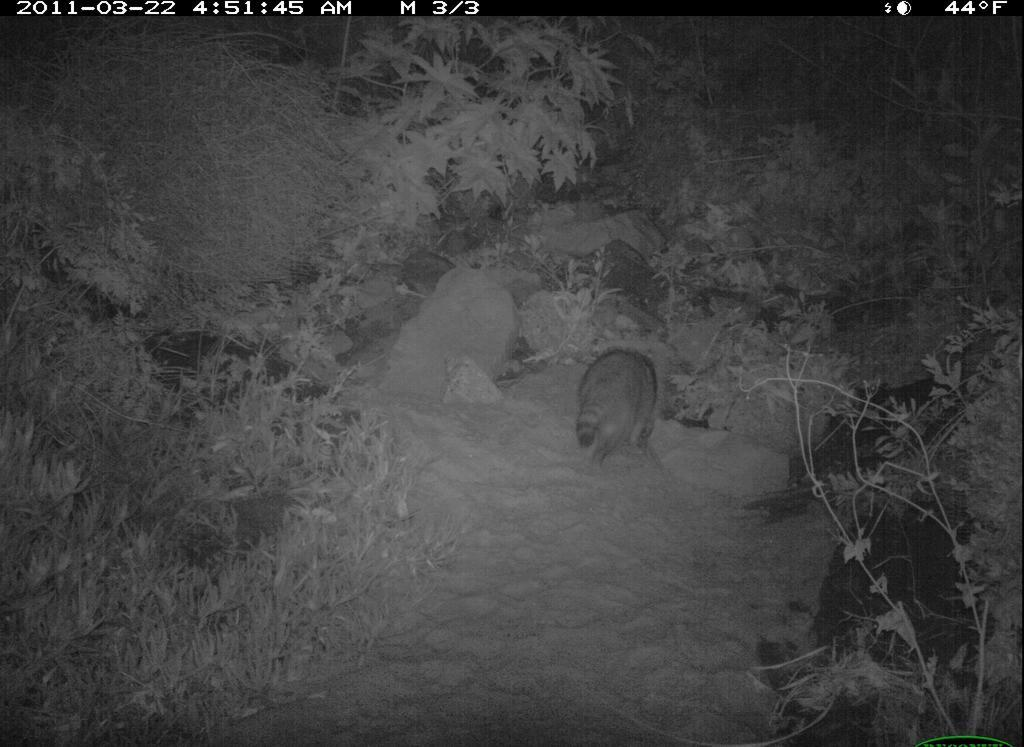raccoon: (566, 345, 666, 472)
